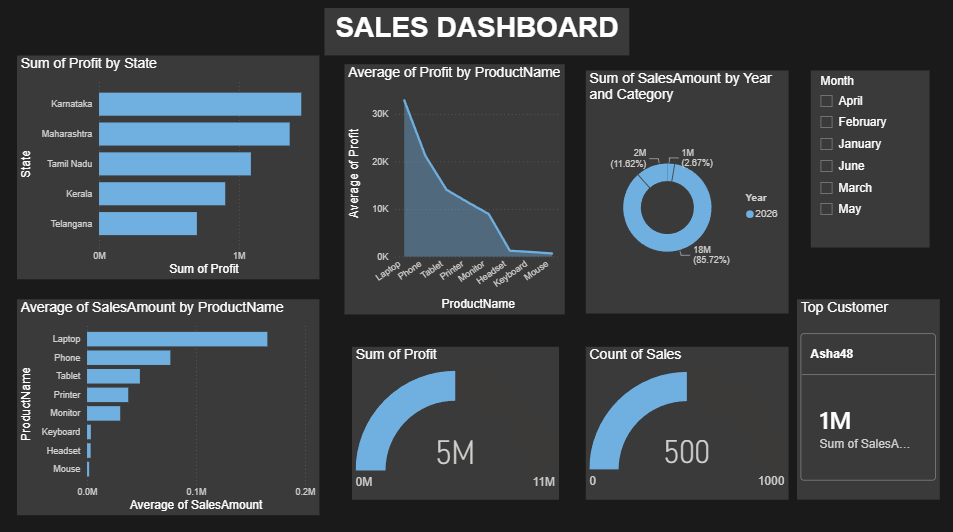

This screenshot's page, from the dashboard's own definition file:
{"tool":"powerbi","page":{"name":"Page 2","canvas":[1280,720],"ordinal":1},"visuals":[{"type":"clusteredBarChart","fields":{"Category":["Customers.State"],"Y":["Sum(Sales.Profit)"]},"box":[26.7,76.7,403.3,298.3],"z":0},{"type":"donutChart","fields":{"Category":["Dates.Year"],"Series":["Products.Category"],"Y":["Sum(Sales.SalesAmount)"]},"box":[785.7,97.1,270,324.3],"z":1000},{"type":"slicer","fields":{"Values":["Dates.Month"]},"box":[1084.3,97.1,158.6,235.7],"z":2000},{"type":"textbox","box":[436,12.8,407,44.2],"z":3000},{"type":"gauge","fields":{"Y":["Sum(Sales.Profit)"]},"box":[472.9,464.3,275.7,204.3],"z":4000},{"type":"gauge","fields":{"Y":["Count(Sales)"]},"box":[785.7,464.3,270,204.3],"z":5000},{"type":"cardVisual","title":"Top Customer","fields":{"Rows":["Customers.CustomerName"],"Data":["Sum(Sales.SalesAmount)"]},"box":[1067.1,401.4,190,267.1],"z":6000},{"type":"clusteredBarChart","fields":{"Category":["Products.ProductName"],"Y":["Avg(Sales.SalesAmount)"]},"box":[26.7,401.7,403.3,288.3],"z":7000},{"type":"areaChart","fields":{"Category":["Products.ProductName"],"Y":["Avg(Sales.Profit)"]},"box":[463.3,88.3,293.3,333.3],"z":8000}]}

Visuals, with their boxes in screenshot pixels (x1, y1, x2, y2), scaled from the page's 1280x720 canvas onto the 953x532 screenshot:
clusteredBarChart - Customers.State x Sum(Sales.Profit): select_region(20, 57, 320, 277)
donutChart - Dates.Year x Products.Category: select_region(585, 72, 786, 311)
slicer - Dates.Month: select_region(807, 72, 925, 246)
textbox: select_region(325, 9, 628, 42)
gauge - Sum(Sales.Profit): select_region(352, 343, 557, 494)
gauge - Count(Sales): select_region(585, 343, 786, 494)
"Top Customer" cardVisual: select_region(794, 297, 936, 494)
clusteredBarChart - Products.ProductName x Avg(Sales.SalesAmount): select_region(20, 297, 320, 510)
areaChart - Products.ProductName x Avg(Sales.Profit): select_region(345, 65, 563, 312)
